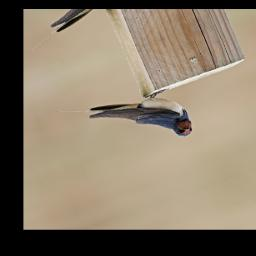Swallow: (55, 71, 198, 175)
